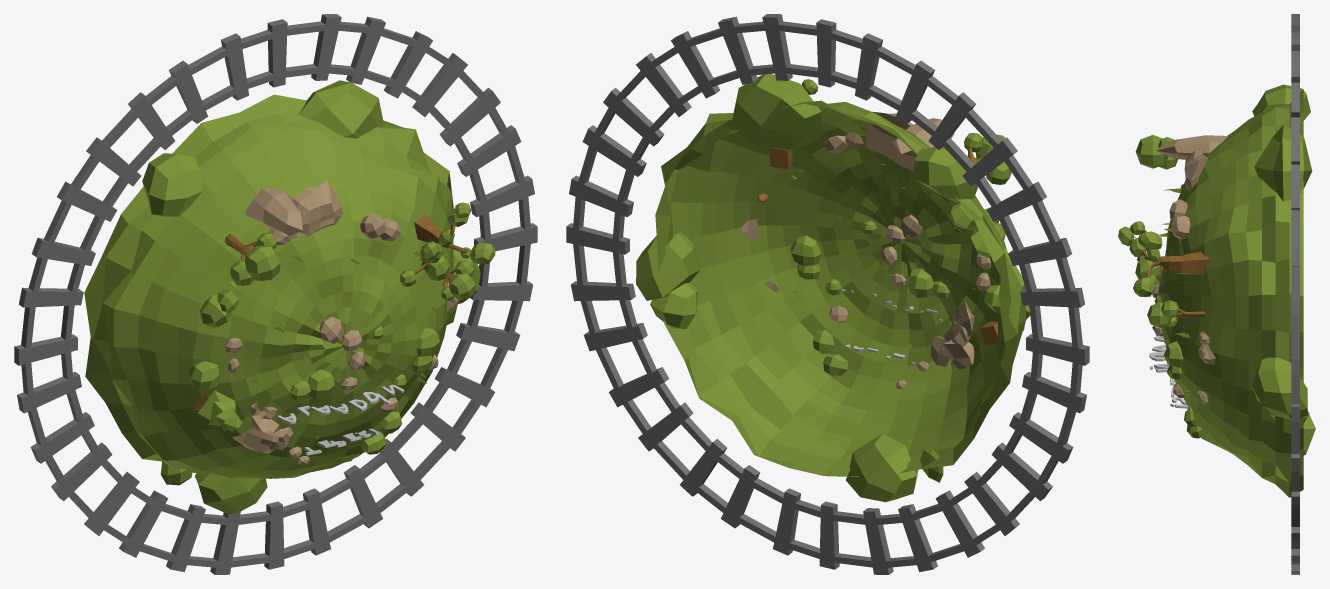
The model's file is basee.glb.
3 renders of one model, left to right at view 1: azimuth 30°, elevation 25°; view 2: azimuth 150°, elevation 25°; view 3: azimuth 270°, elevation 25°, orthographic. The views are drawn at different scales.
Visible parts, largest first — view 1: shadeGreen, shadeGrey.001, shadeGrey, shadeWhite; view 2: shadeGreen, shadeGrey.001, shadeGrey; view 3: shadeGreen, shadeGrey.001, shadeGrey, shadeWhite.
Part boxes in pixels (bbox=[...]): shadeGreen: bbox=[84, 80, 495, 514]; shadeGrey.001: bbox=[14, 14, 537, 574]; shadeGrey: bbox=[225, 180, 460, 465]; shadeWhite: bbox=[277, 384, 404, 455]; shadeGreen: bbox=[636, 74, 1030, 502]; shadeGrey.001: bbox=[566, 14, 1089, 574]; shadeGrey: bbox=[740, 111, 991, 388]; shadeGreen: bbox=[1118, 84, 1315, 497]; shadeGrey.001: bbox=[1291, 14, 1299, 574]; shadeGrey: bbox=[1152, 135, 1227, 403]; shadeWhite: bbox=[1149, 335, 1188, 408].
Size of the model in its own units: 19.35 by 19.35 by 6.83.
